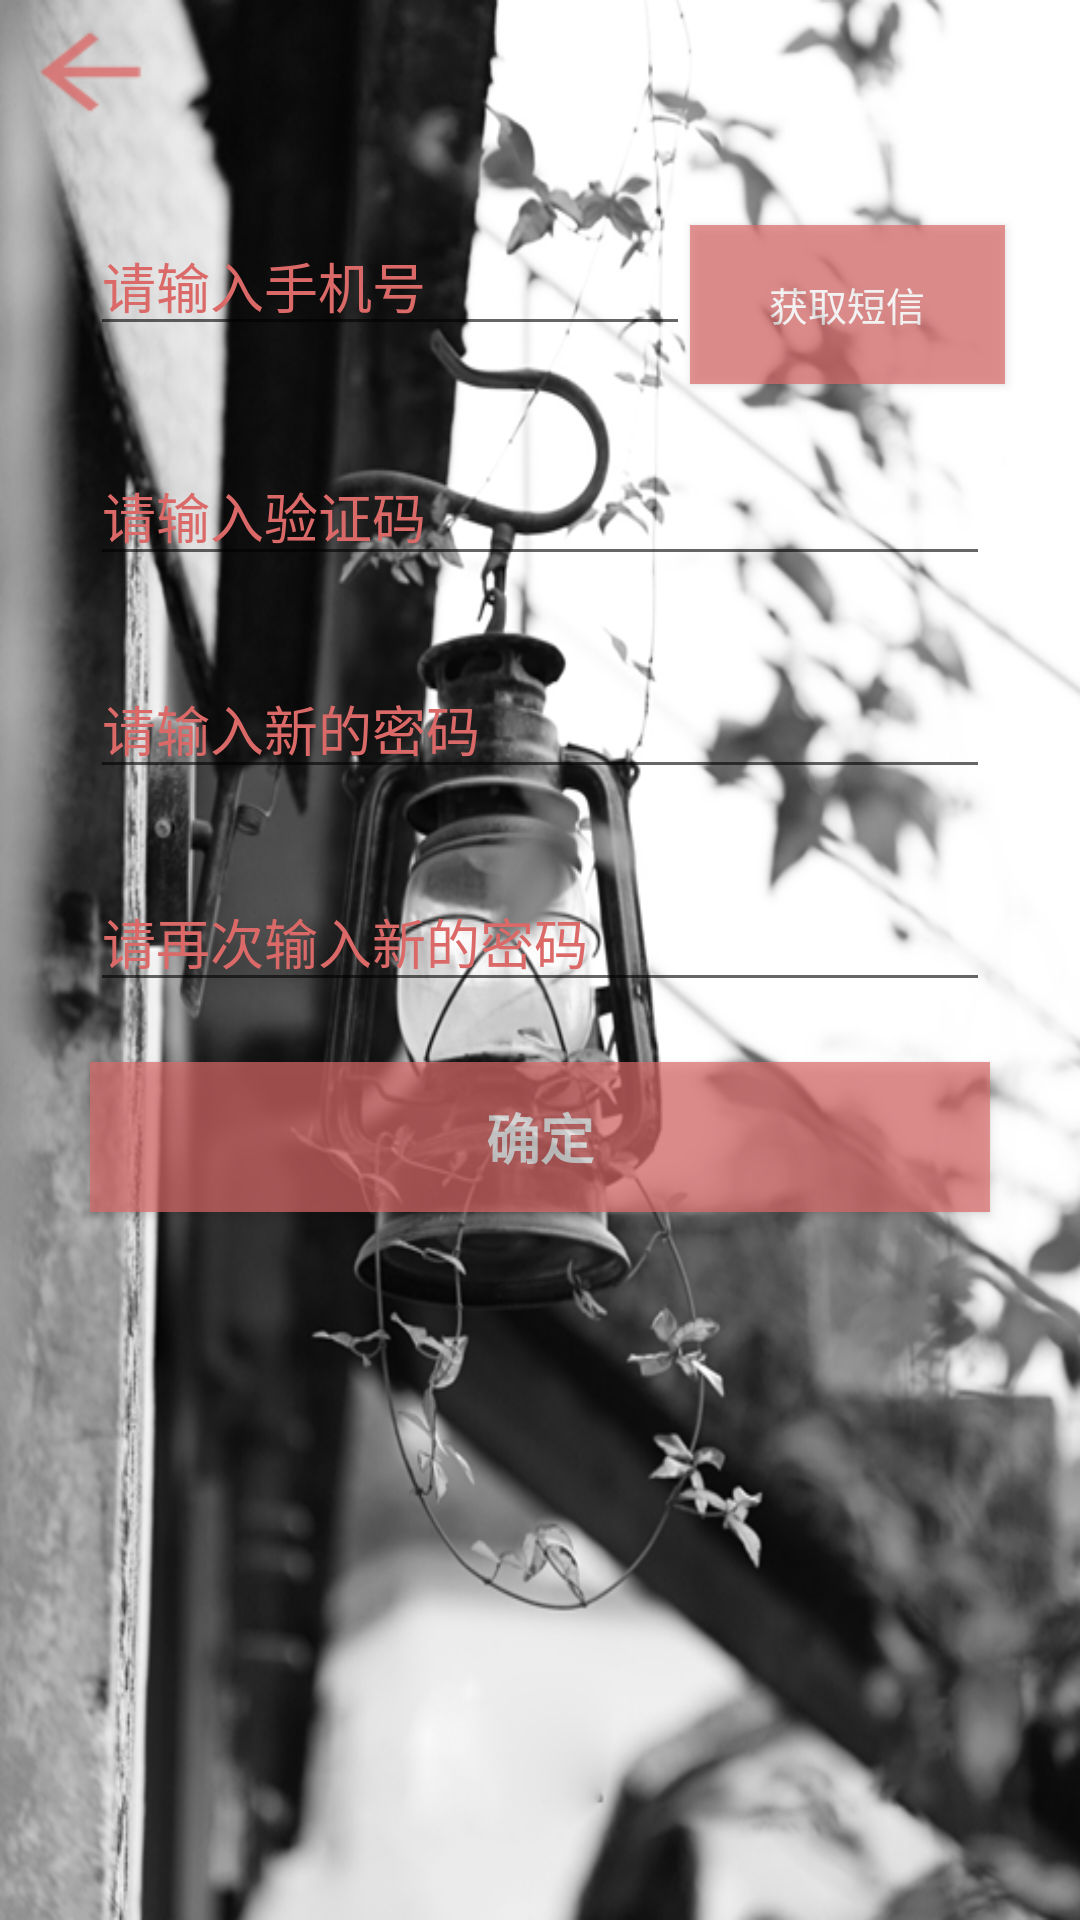

Where icons sit on this 1080*1920 app screen, as {"left": x1, "top": y1, "right": x2, "bottom": y2}:
goback: {"left": 0, "top": 0, "right": 180, "bottom": 144}
